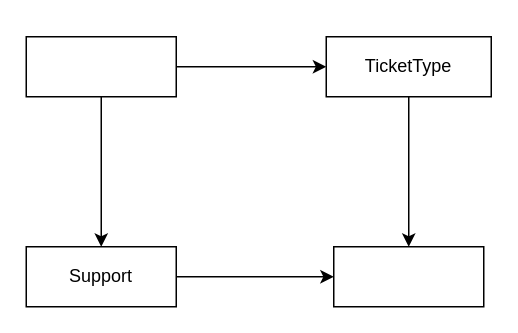
This 518x333 diagram has some shape labels left out. The centre of each missing label's shape, as x and y in pixels:
"SupportTeam" goes at (x=100, y=66).
"Ticket" goes at (x=408, y=276).
